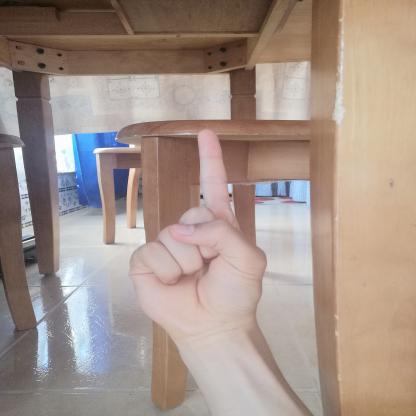BAA: (119, 120, 272, 345)
